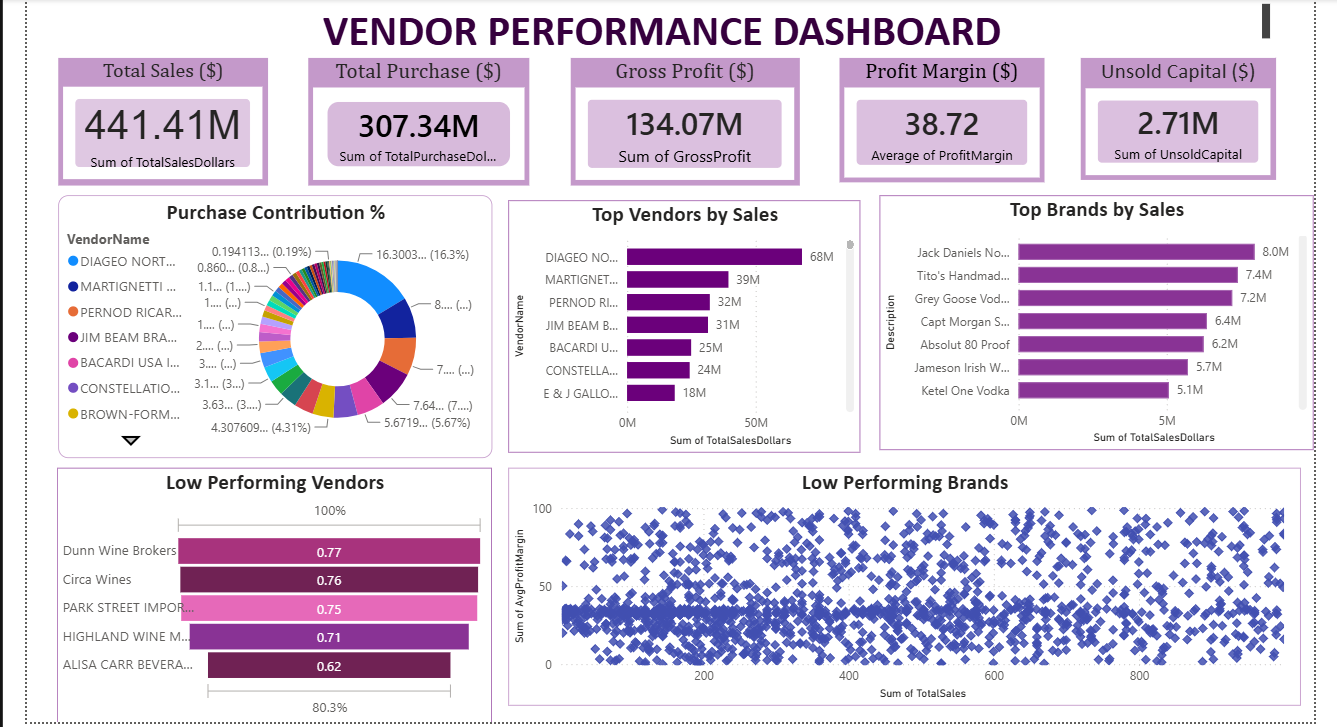

Layout of this report page (visuals, bound fields, positions):
{"tool":"powerbi","page":{"name":"Page 1","canvas":[1280,720],"ordinal":0},"visuals":[{"type":"cardVisual","title":"Total Sales ($)","fields":{"Data":["Sum(vendor_sales_summary.TotalSalesDollars)"]},"box":[31.1,58.5,209,126.9],"z":0},{"type":"cardVisual","title":"Total Purchase ($)","fields":{"Data":["Sum(vendor_sales_summary.TotalPurchaseDollars)"]},"box":[279.9,58.5,220.2,126.9],"z":1},{"type":"cardVisual","title":"Gross Profit ($)","fields":{"Data":["Sum(vendor_sales_summary.GrossProfit)"]},"box":[541.1,58.5,227.6,126.9],"z":2},{"type":"cardVisual","title":"Profit Margin ($)","fields":{"Data":["Avg(vendor_sales_summary.ProfitMargin)"]},"box":[808.6,58.5,204,124.4],"z":3},{"type":"cardVisual","title":"Unsold Capital ($)","fields":{"Data":["Sum(vendor_sales_summary.UnsoldCapital)"]},"box":[1048.7,58.5,194.1,121.9],"z":4},{"type":"donutChart","title":"Purchase Contribution % ","fields":{"Category":["PurchaseContribution.VendorName"],"Y":["Sum(PurchaseContribution.PurchaseContribution%)"]},"box":[31.1,195.3,431.7,261.2],"z":5},{"type":"barChart","title":"Top Vendors by Sales","fields":{"Category":["vendor_sales_summary.VendorName"],"Y":["Sum(vendor_sales_summary.TotalSalesDollars)"]},"box":[479,200.5,350.6,251],"z":6},{"type":"barChart","title":"Top Brands by Sales","fields":{"Category":["vendor_sales_summary.Description"],"Y":["Sum(vendor_sales_summary.TotalSalesDollars)"]},"box":[848.4,195.3,431.7,253.8],"z":7},{"type":"funnel","title":"Low Performing Vendors","fields":{"Category":["LowTurnoverVendor.VendorName"],"Y":["Avg(LowTurnoverVendor.AvgStockTurnover)"]},"box":[30.3,466.3,432.5,254.5],"z":8},{"type":"textbox","box":[30.3,0,1212,58.7],"z":9},{"type":"scatterChart","title":"Low Performing Brands","fields":{"Category":["BrandPerformance.Description"],"X":["Sum(BrandPerformance.TotalSales)"],"Y":["Sum(BrandPerformance.AvgProfitMargin)"]},"box":[478.8,466.3,788.4,236.7],"z":10}]}

Visuals, with their boxes on the page's 1280x720 design canvas (x1, y1, x2, y2). These are canvas units, not pixel positions in the 1337x727 screenshot, which may show the page scaled, cropped or inside an application window:
"Total Sales ($)" cardVisual: x1=31, y1=58, x2=240, y2=185
"Total Purchase ($)" cardVisual: x1=280, y1=58, x2=500, y2=185
"Gross Profit ($)" cardVisual: x1=541, y1=58, x2=769, y2=185
"Profit Margin ($)" cardVisual: x1=809, y1=58, x2=1013, y2=183
"Unsold Capital ($)" cardVisual: x1=1049, y1=58, x2=1243, y2=180
"Purchase Contribution % " donutChart: x1=31, y1=195, x2=463, y2=456
"Top Vendors by Sales" barChart: x1=479, y1=200, x2=830, y2=452
"Top Brands by Sales" barChart: x1=848, y1=195, x2=1280, y2=449
"Low Performing Vendors" funnel: x1=30, y1=466, x2=463, y2=721
textbox: x1=30, y1=0, x2=1242, y2=59
"Low Performing Brands" scatterChart: x1=479, y1=466, x2=1267, y2=703
